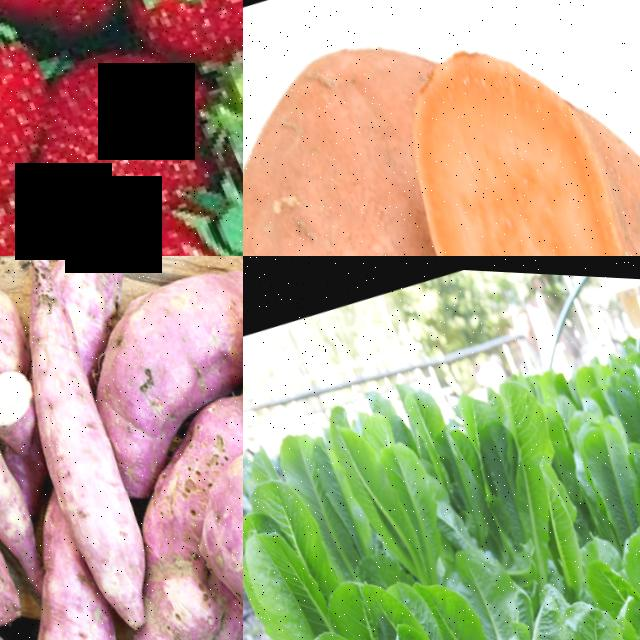spinach: (311, 412, 431, 597), (512, 449, 606, 598), (369, 432, 460, 572), (243, 512, 330, 640), (481, 364, 562, 465), (406, 568, 506, 640), (530, 585, 640, 640), (601, 499, 640, 640), (393, 377, 452, 456), (595, 352, 640, 435)
strawberry: (40, 27, 216, 217), (62, 173, 243, 256), (0, 5, 63, 184)
sweet potato: (347, 0, 640, 256), (243, 29, 541, 256), (19, 399, 169, 634), (81, 256, 243, 423), (160, 382, 243, 640), (0, 590, 132, 640)
